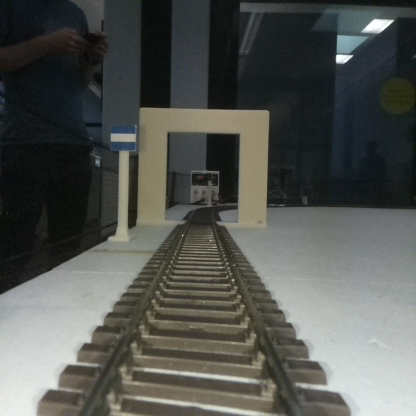start: (110, 124, 135, 240)
